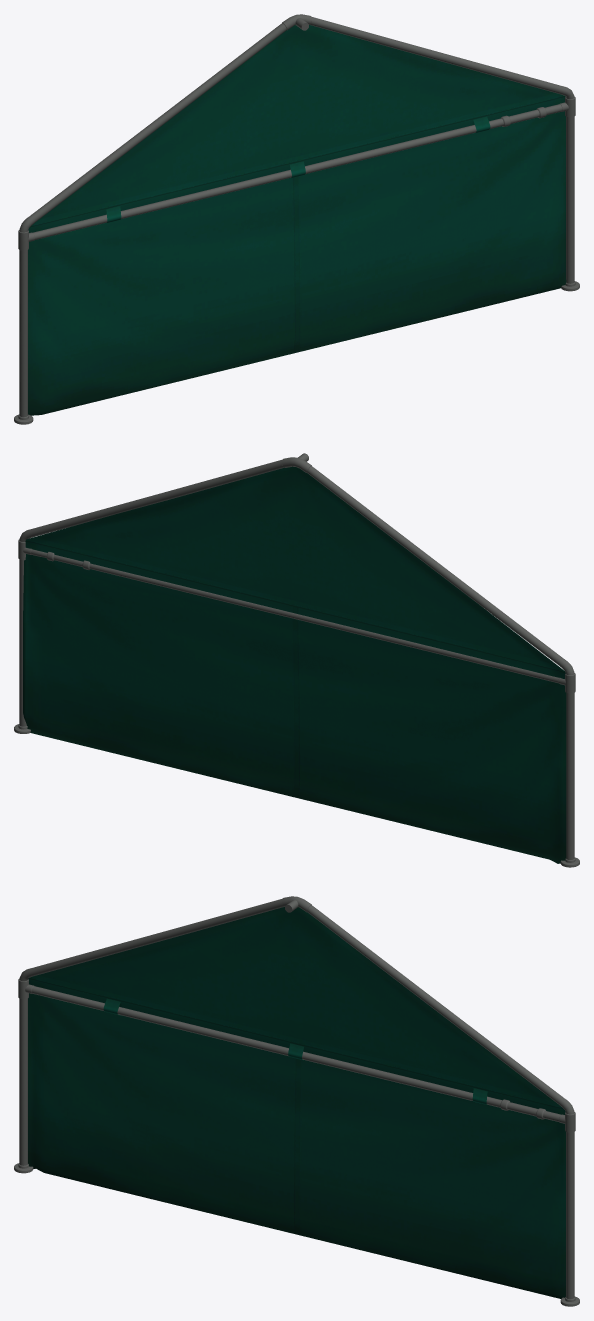
Rendered from Back.glb.
3 renders of one model, top to bottom at view 1: azimuth 30°, elevation 25°; view 2: azimuth 150°, elevation 25°; view 3: azimuth 330°, elevation 25°, orthographic.
Parts seen in each view (by area): view 1: Back; view 2: Back; view 3: Back.
Part boxes in pixels (box(x1,y1,x2,y2)): Back: box(14, 14, 579, 424); Back: box(14, 453, 579, 867); Back: box(14, 896, 579, 1306).
Bounding box in the file's own units: 6.82 × 3.91 × 0.2776.
1 material, 1 textured.
